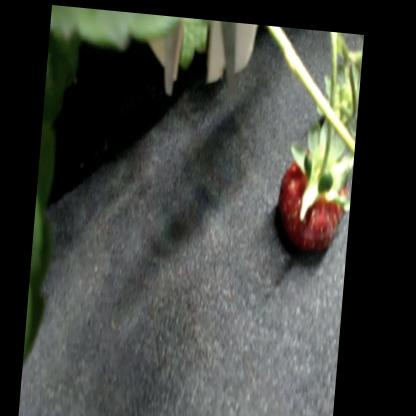ripe: (269, 141, 354, 249)
